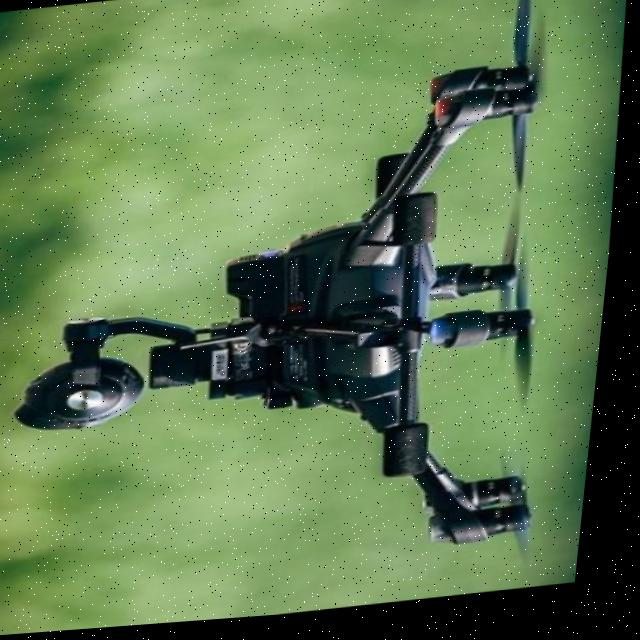drones: (0, 0, 617, 625)
